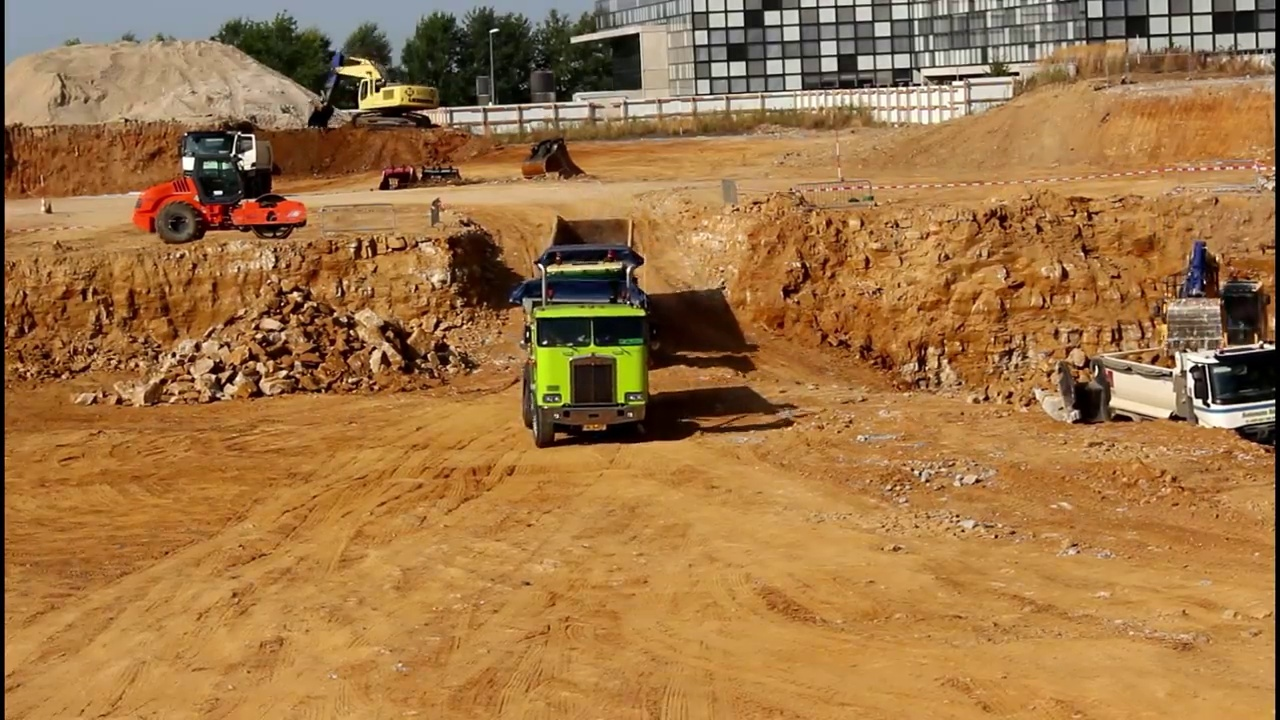compactor: (130, 157, 316, 243)
excavator: (1149, 237, 1280, 394), (304, 38, 442, 138)
truck: (1063, 341, 1280, 468), (514, 289, 666, 464), (523, 209, 660, 374), (173, 119, 290, 203)
